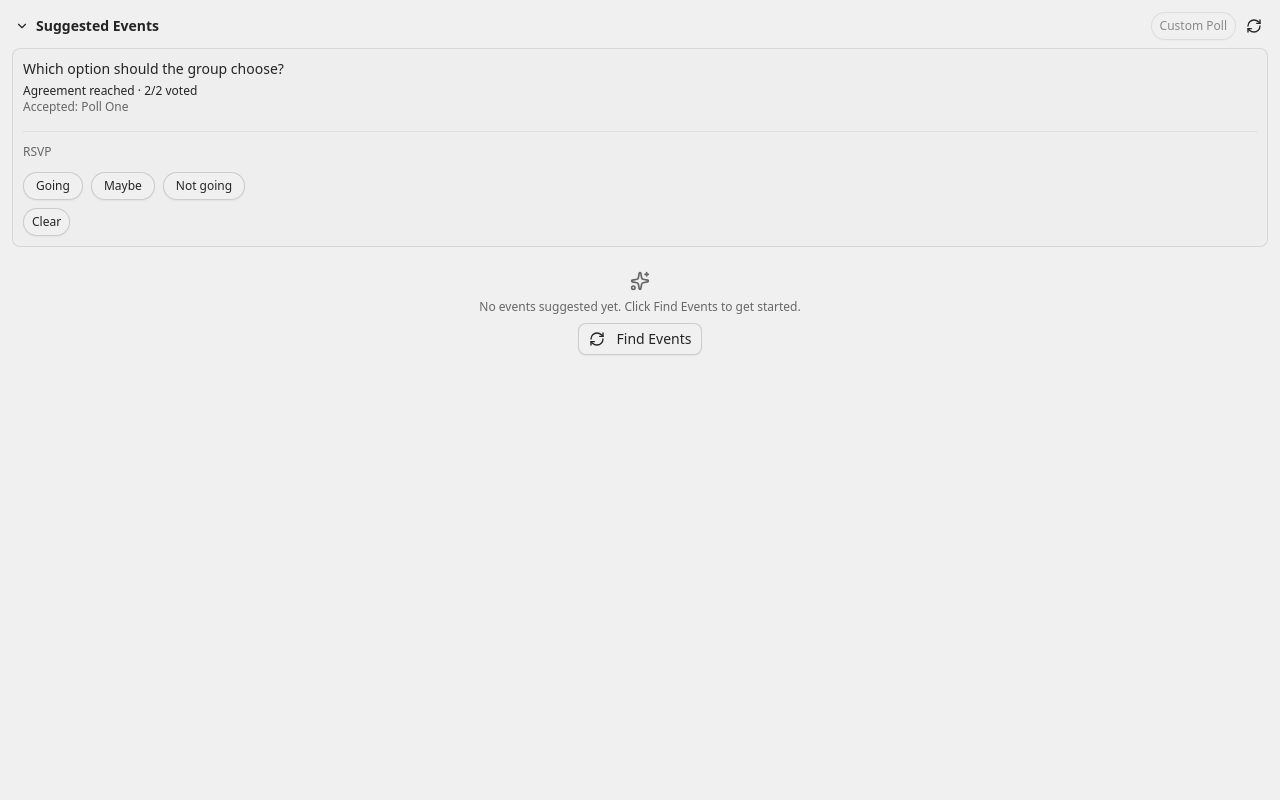
Test case: shows newly fetched recommendations after an accepted poll is closed
The image size is (1280, 800).
Expected: the text "Agreement reached · 2/2 voted" is shown, [23,82,197,99]
Expected: the text "Accepted: Poll One" is shown, [23,98,128,115]
Click the button "Find Events" at (640, 339), box [578,323,702,355]
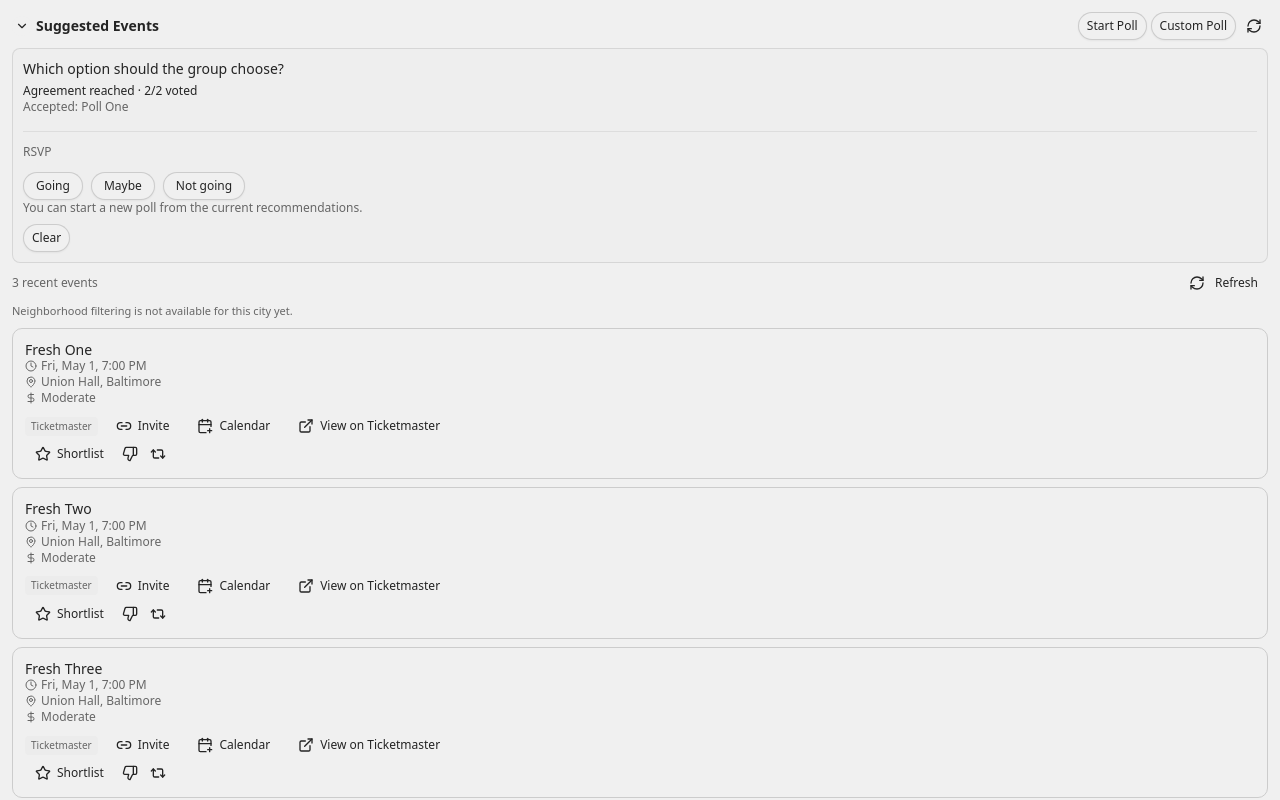
Now the text "Fresh One" is shown, box [25,340,92,358]
Now the text "Fresh Two" is shown, box [25,500,92,518]
Now the text "Fresh Three" is shown, box [25,660,102,677]
Click the button "Clear" at (47, 238), box [23,224,70,252]
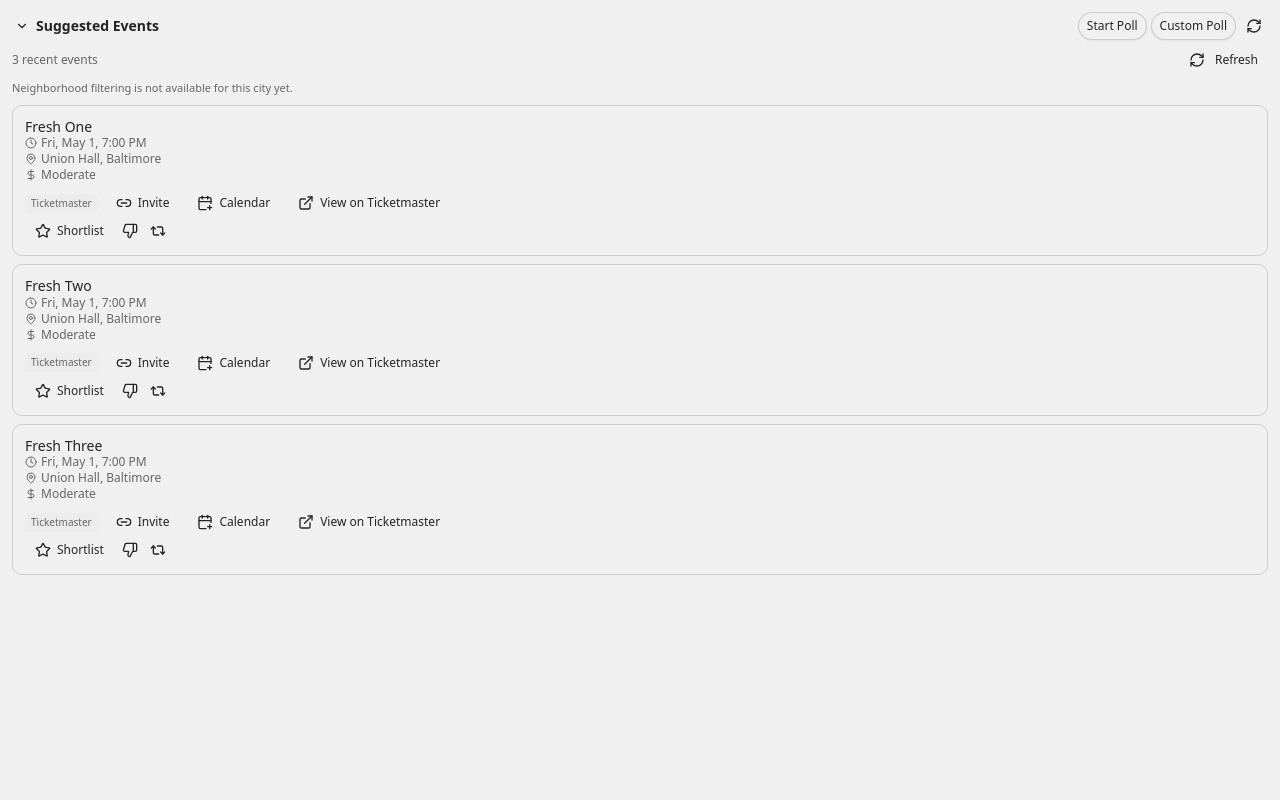
Now the text "Fresh One" is shown, box [25,118,92,135]
Now the text "Agreement reached · 2/2 voted" is gone
Now the text "Accepted: Poll One" is gone
Click the button "Custom Poll" at (1193, 26), box [1151,12,1236,40]
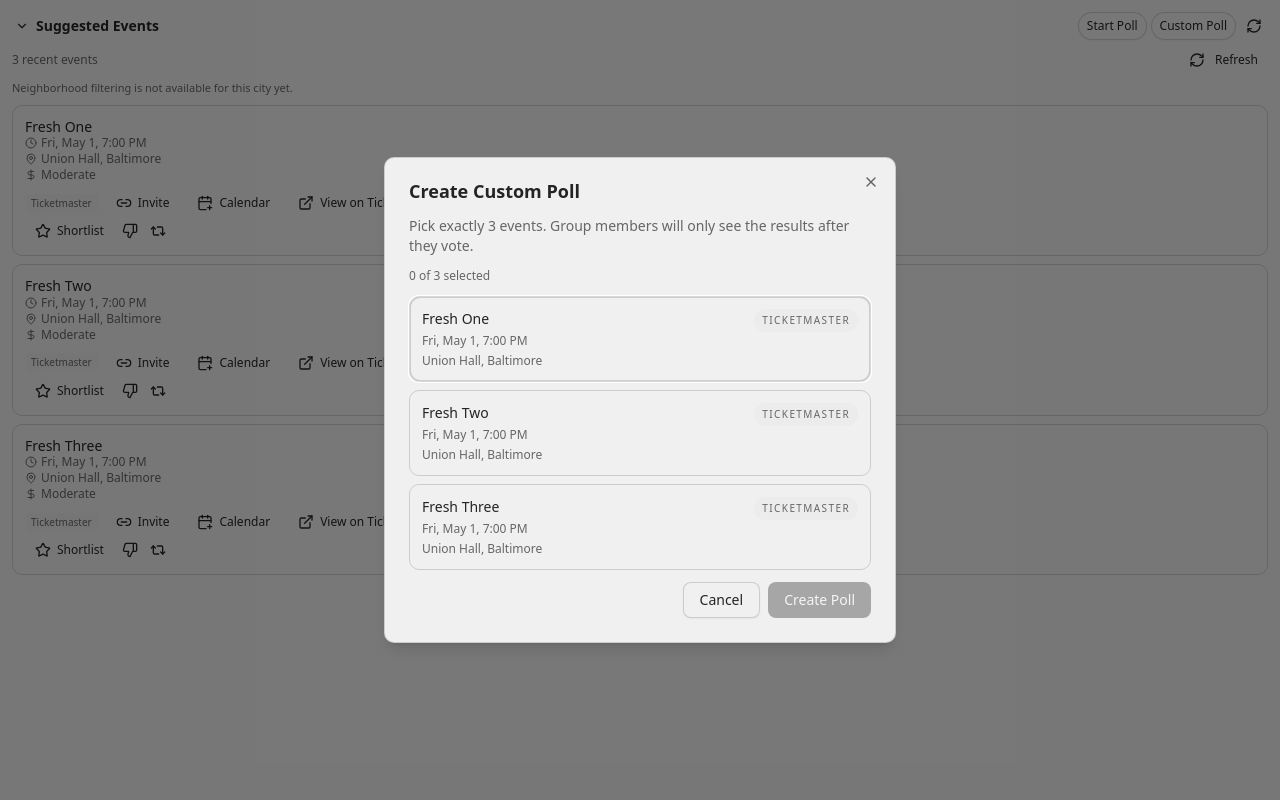
Now the button "Fresh One" is shown, box [409,296,871,382]
Now the button "Fresh Two" is shown, box [409,390,871,476]
Now the button "Fresh Three" is shown, box [409,484,871,570]
